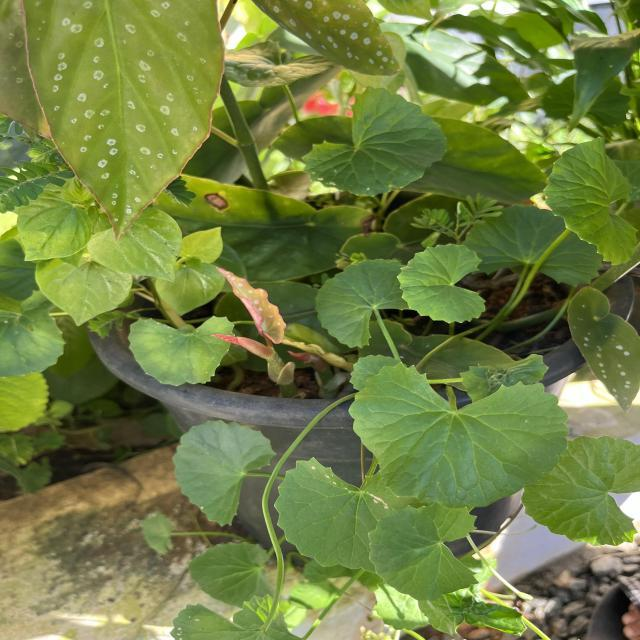Centella asiatica: (346, 358, 574, 510), (519, 432, 640, 548), (540, 131, 640, 269), (364, 498, 484, 604), (394, 240, 491, 326)
